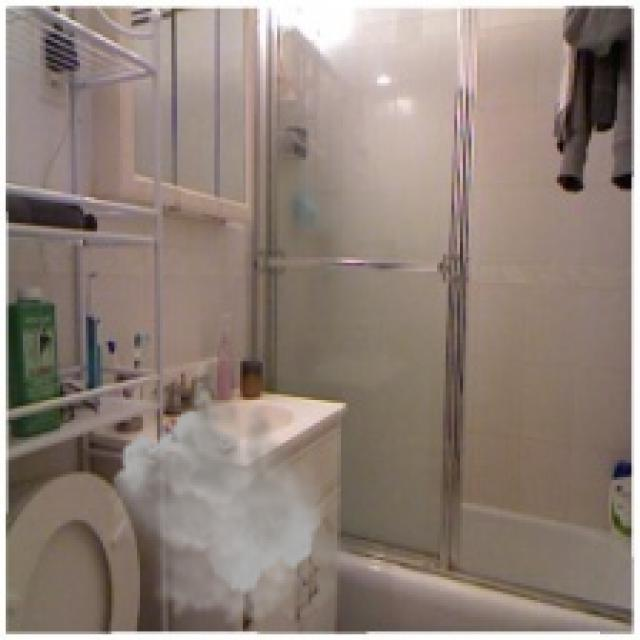smoke: (109, 357, 357, 629)
